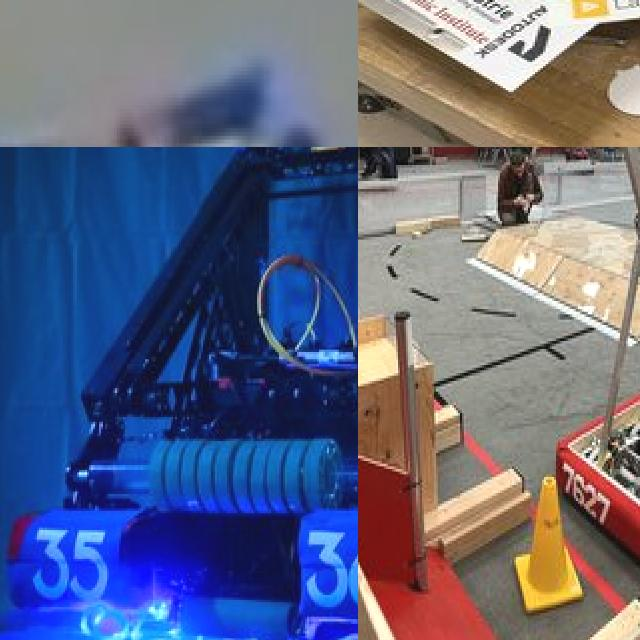FRC-Robots: (0, 147, 358, 640), (358, 147, 640, 601), (385, 0, 640, 147), (0, 48, 358, 147)
